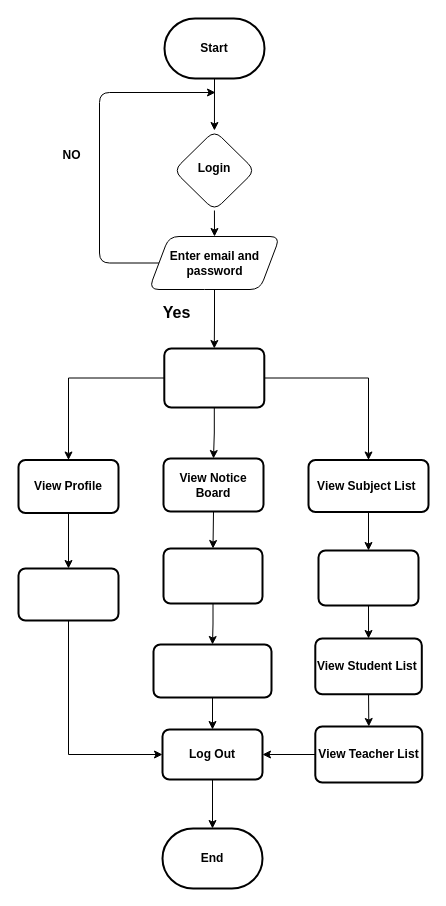
This 446x906 diagram has some shape labels left out. Each missing label, with the box of its shape:
Change Password: (17, 567, 119, 621)
Send Request Message to Admin: (162, 547, 263, 604)
Teacher Dashboard: (163, 347, 265, 408)
View Self Message: (152, 643, 272, 698)
View Timetable: (317, 549, 419, 606)
